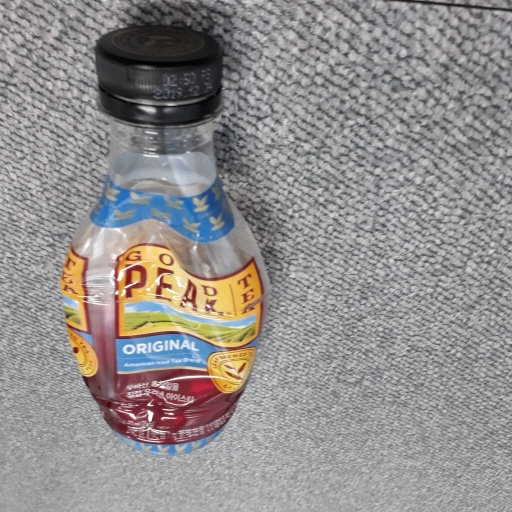Plastic_0: (62, 27, 272, 453)
